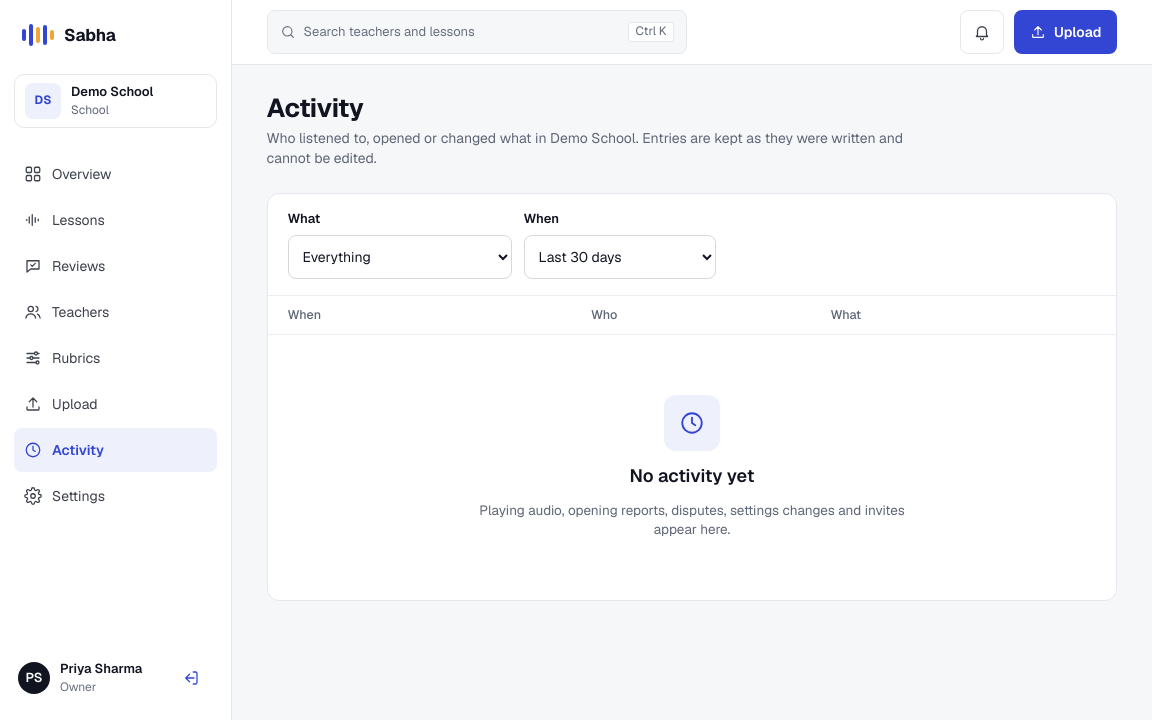
Test: the activity page › says when nothing matches and offers to clear the filters
Expected: the heading "No activity yet" is shown, [630,463,754,489]
Select "Invited people" in the dropdown labelled "What" at [400, 257], box [288,235,512,279]
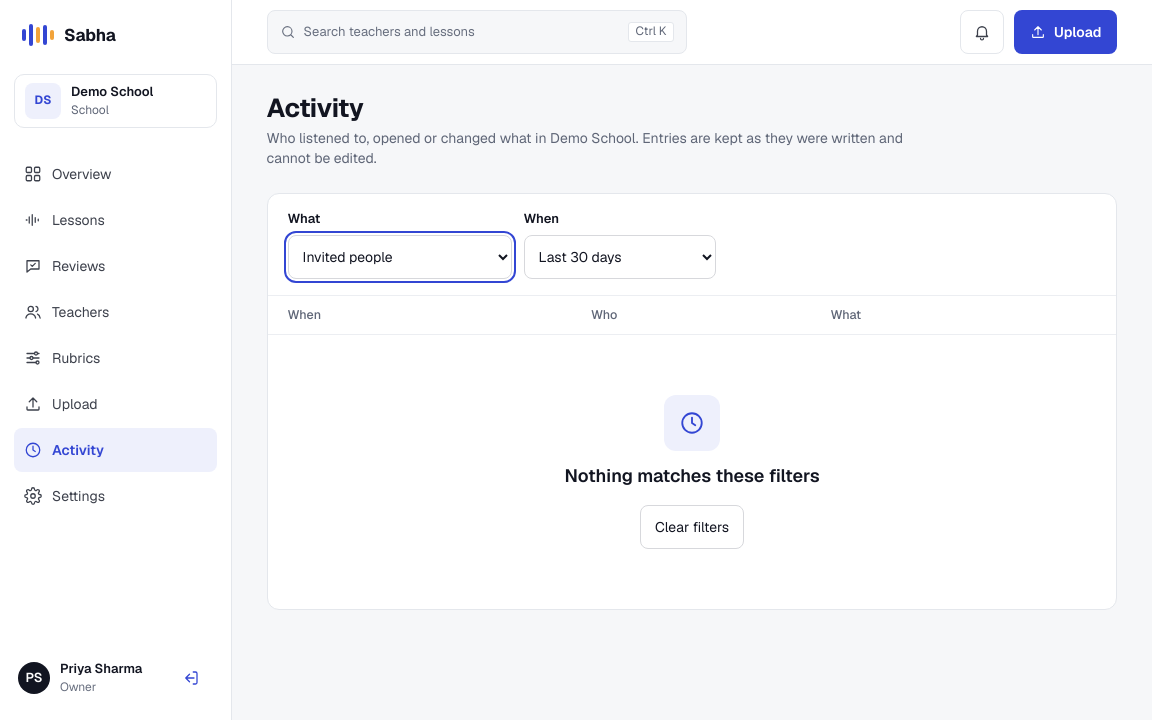
Expected: the heading "Nothing matches these filters" is shown, [564,463,820,489]
Click the button "Clear filters".
click(692, 527)  # box [640,505,744,549]
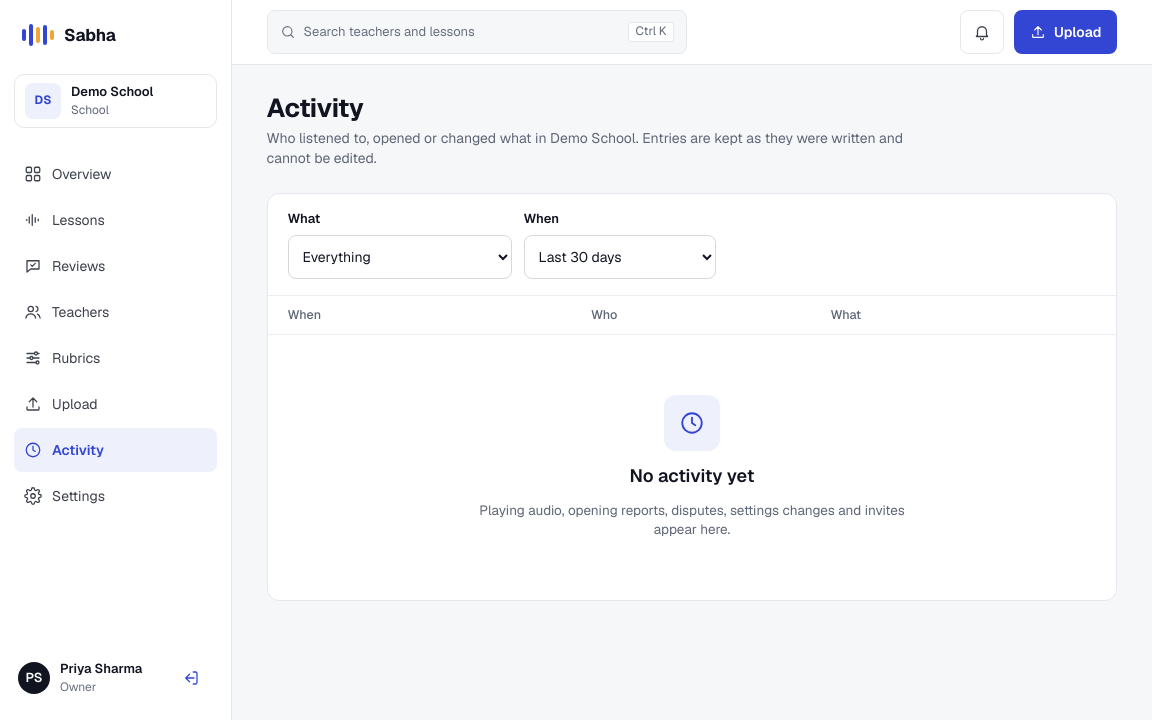
Expected: the heading "No activity yet" is shown, [630,463,754,489]
